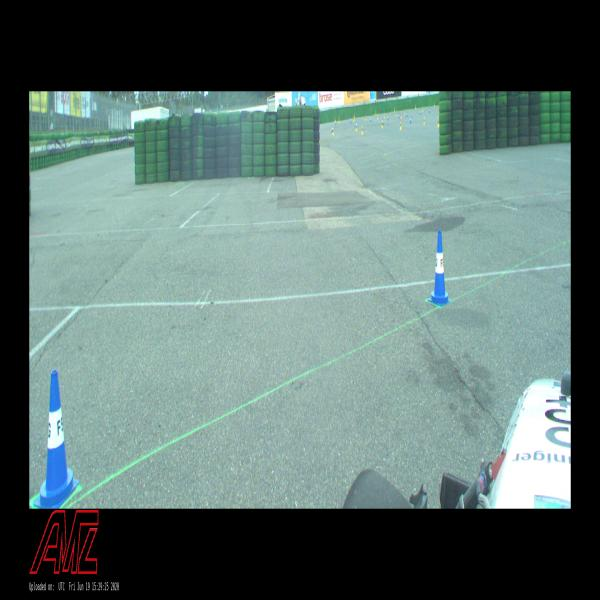blue_cone: (34, 369, 79, 509), (428, 230, 451, 308), (398, 112, 400, 119), (406, 112, 408, 118), (370, 116, 372, 122), (331, 126, 333, 132), (335, 120, 337, 126), (350, 118, 352, 123), (410, 116, 411, 123), (387, 114, 388, 121), (356, 121, 357, 128), (429, 107, 430, 113), (382, 119, 383, 125), (420, 110, 421, 115)
orange_cone: (400, 115, 402, 122)
yellow_cone: (399, 122, 402, 130), (437, 119, 440, 127), (361, 125, 363, 135), (332, 126, 334, 136), (381, 120, 383, 128), (423, 117, 425, 124), (395, 110, 397, 116), (338, 118, 340, 123), (356, 124, 357, 132), (384, 113, 385, 119), (404, 109, 405, 114), (365, 116, 366, 121), (353, 116, 354, 121), (434, 102, 435, 107), (415, 104, 416, 109), (422, 107, 423, 111), (377, 115, 378, 119), (376, 111, 377, 115), (354, 114, 355, 118)
